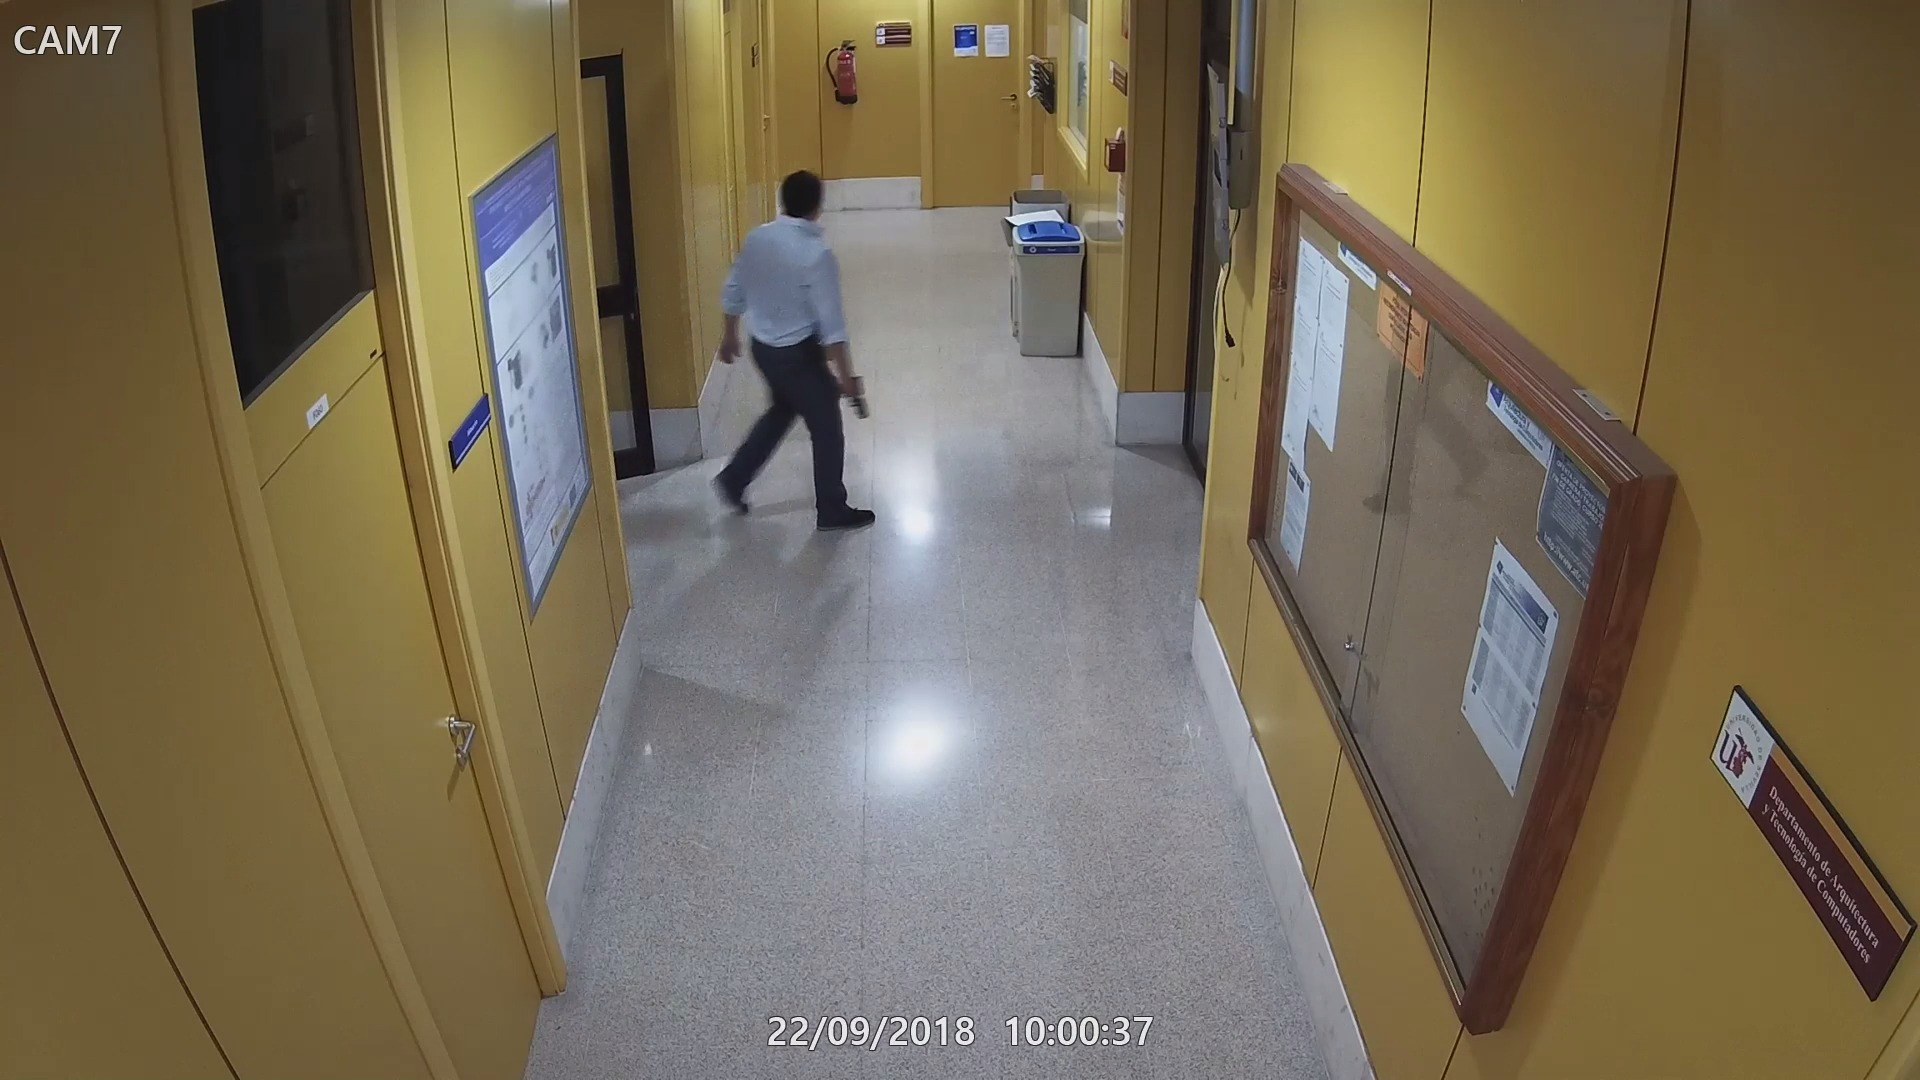Handgun: (833, 373, 873, 419)
